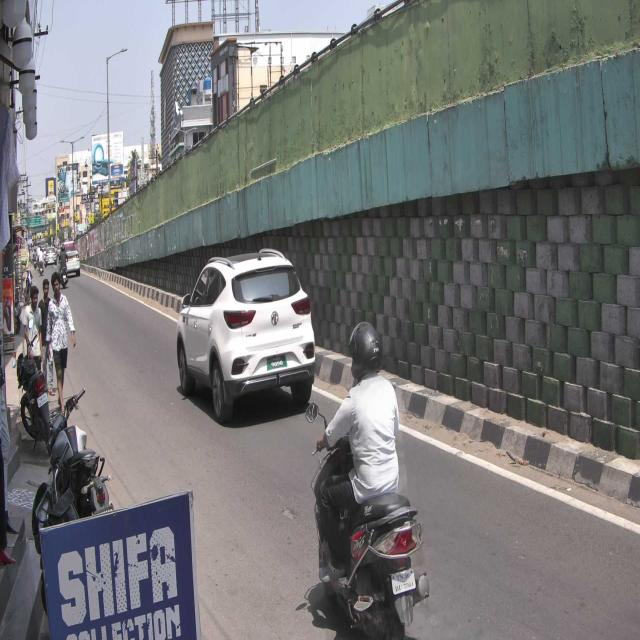single_rider: (306, 318, 432, 640)
